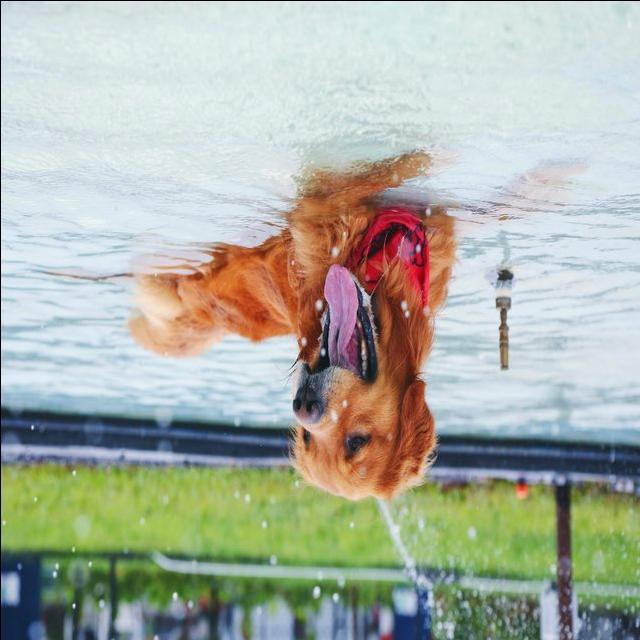retriever: (119, 148, 463, 500)
